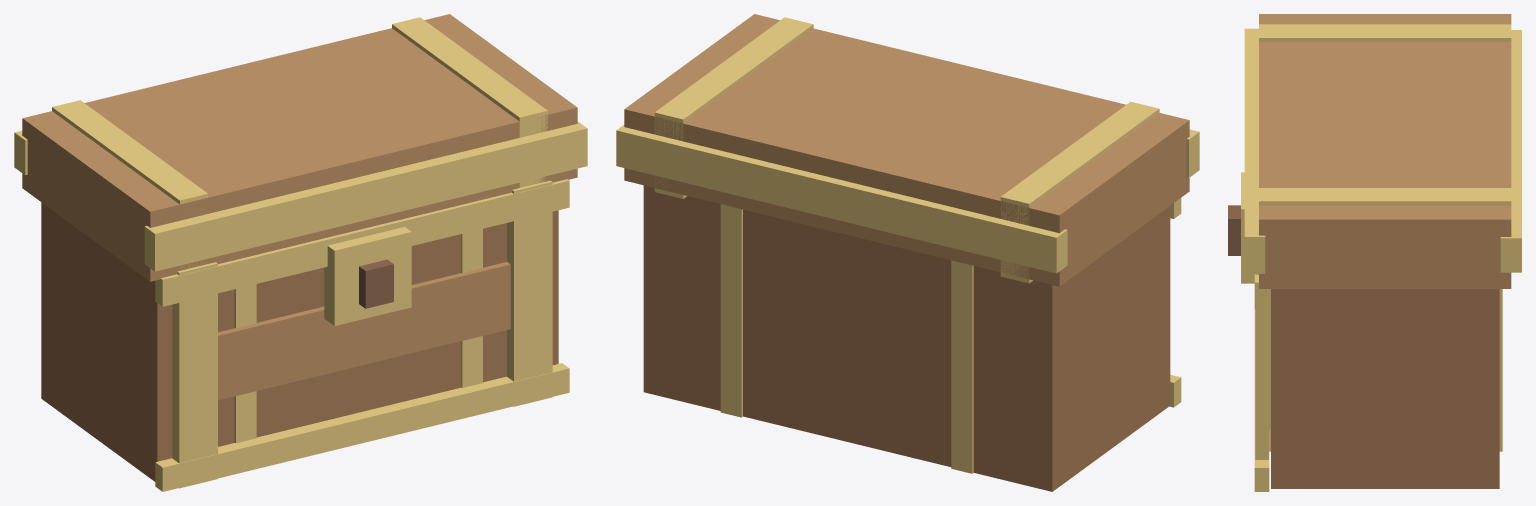
File: chest_closed_web.glb
3 views of the same model, side by side, from view 1: azimuth 30°, elevation 25°; view 2: azimuth 150°, elevation 25°; view 3: azimuth 270°, elevation 25° (orthographic). The views are drawn at different scales.
Visible parts, largest first — view 1: 10_lid_wood, 00_wood_body, 11_lid_front_rim, 01_front_wood_strip, 04_gold_front_lower, 05_gold_front_upper, 02_gold_front_corner, 03_gold_front_corner, 06_gold_front_lock_backplate, 14_lid_corner_bands, 13_lid_corner_bands, 08_body_side_bands (+2 smaller); view 2: 00_wood_body, 10_lid_wood, 12_lid_back_rim, 13_lid_corner_bands, 14_lid_corner_bands, 08_body_side_bands, 09_body_side_bands; view 3: 10_lid_wood, 00_wood_body, 13_lid_corner_bands, 14_lid_corner_bands, 11_lid_front_rim, 12_lid_back_rim, 03_gold_front_corner, 09_body_side_bands, 04_gold_front_lower, 07_gold_front_lock_cutout, 06_gold_front_lock_backplate, 05_gold_front_upper.
Part boxes in pixels (bbox=[...]): 10_lid_wood: bbox=[22, 14, 577, 281]; 00_wood_body: bbox=[41, 202, 558, 481]; 11_lid_front_rim: bbox=[144, 121, 587, 271]; 01_front_wood_strip: bbox=[218, 262, 510, 400]; 04_gold_front_lower: bbox=[155, 363, 569, 491]; 05_gold_front_upper: bbox=[155, 179, 569, 306]; 02_gold_front_corner: bbox=[172, 262, 217, 488]; 03_gold_front_corner: bbox=[507, 180, 552, 406]; 06_gold_front_lock_backplate: bbox=[324, 227, 411, 325]; 14_lid_corner_bands: bbox=[392, 17, 547, 187]; 13_lid_corner_bands: bbox=[52, 100, 208, 268]; 08_body_side_bands: bbox=[234, 284, 256, 443]; 00_wood_body: bbox=[643, 185, 1170, 491]; 10_lid_wood: bbox=[624, 14, 1189, 286]; 12_lid_back_rim: bbox=[616, 125, 1067, 273]; 13_lid_corner_bands: bbox=[1000, 101, 1159, 283]; 14_lid_corner_bands: bbox=[654, 17, 813, 198]; 08_body_side_bands: bbox=[951, 260, 973, 473]; 09_body_side_bands: bbox=[720, 204, 742, 417]; 10_lid_wood: bbox=[1259, 14, 1511, 288]; 00_wood_body: bbox=[1271, 289, 1499, 488]; 13_lid_corner_bands: bbox=[1259, 24, 1511, 41]; 14_lid_corner_bands: bbox=[1259, 188, 1511, 205]; 11_lid_front_rim: bbox=[1244, 28, 1265, 273]; 12_lid_back_rim: bbox=[1500, 30, 1521, 272]; 03_gold_front_corner: bbox=[1255, 274, 1268, 459]; 09_body_side_bands: bbox=[1269, 289, 1502, 451]; 04_gold_front_lower: bbox=[1254, 309, 1269, 491]; 07_gold_front_lock_cutout: bbox=[1228, 205, 1240, 255]; 06_gold_front_lock_backplate: bbox=[1241, 172, 1254, 283]; 05_gold_front_upper: bbox=[1254, 274, 1269, 309].
Bounding box in the file's own units: 0.84 × 0.5305 × 0.501.
